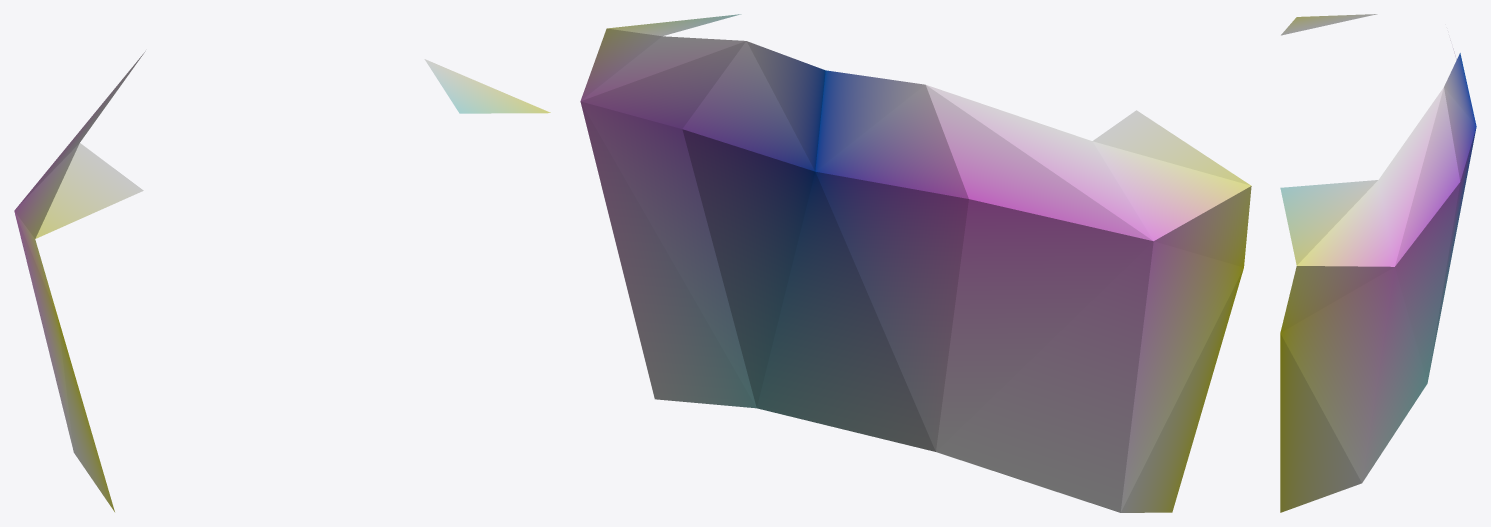
3 views of the same model, side by side, from view 1: azimuth 30°, elevation 25°; view 2: azimuth 150°, elevation 25°; view 3: azimuth 270°, elevation 25° (orthographic). The views are drawn at different scales.
Visible parts, largest first — view 1: model_1184; view 2: model_1184; view 3: model_1184.
Part boxes in pixels (box(x1,y1,x2,y2)): model_1184: box(14, 51, 550, 511); model_1184: box(580, 14, 1251, 512); model_1184: box(1280, 14, 1476, 512).
Bounding box in the file's own units: 36 × 25 × 12.
